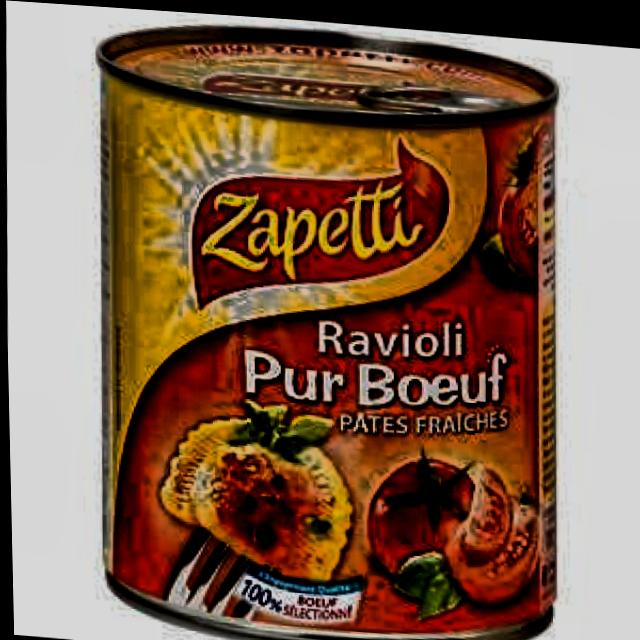Cans: (55, 3, 583, 640)
